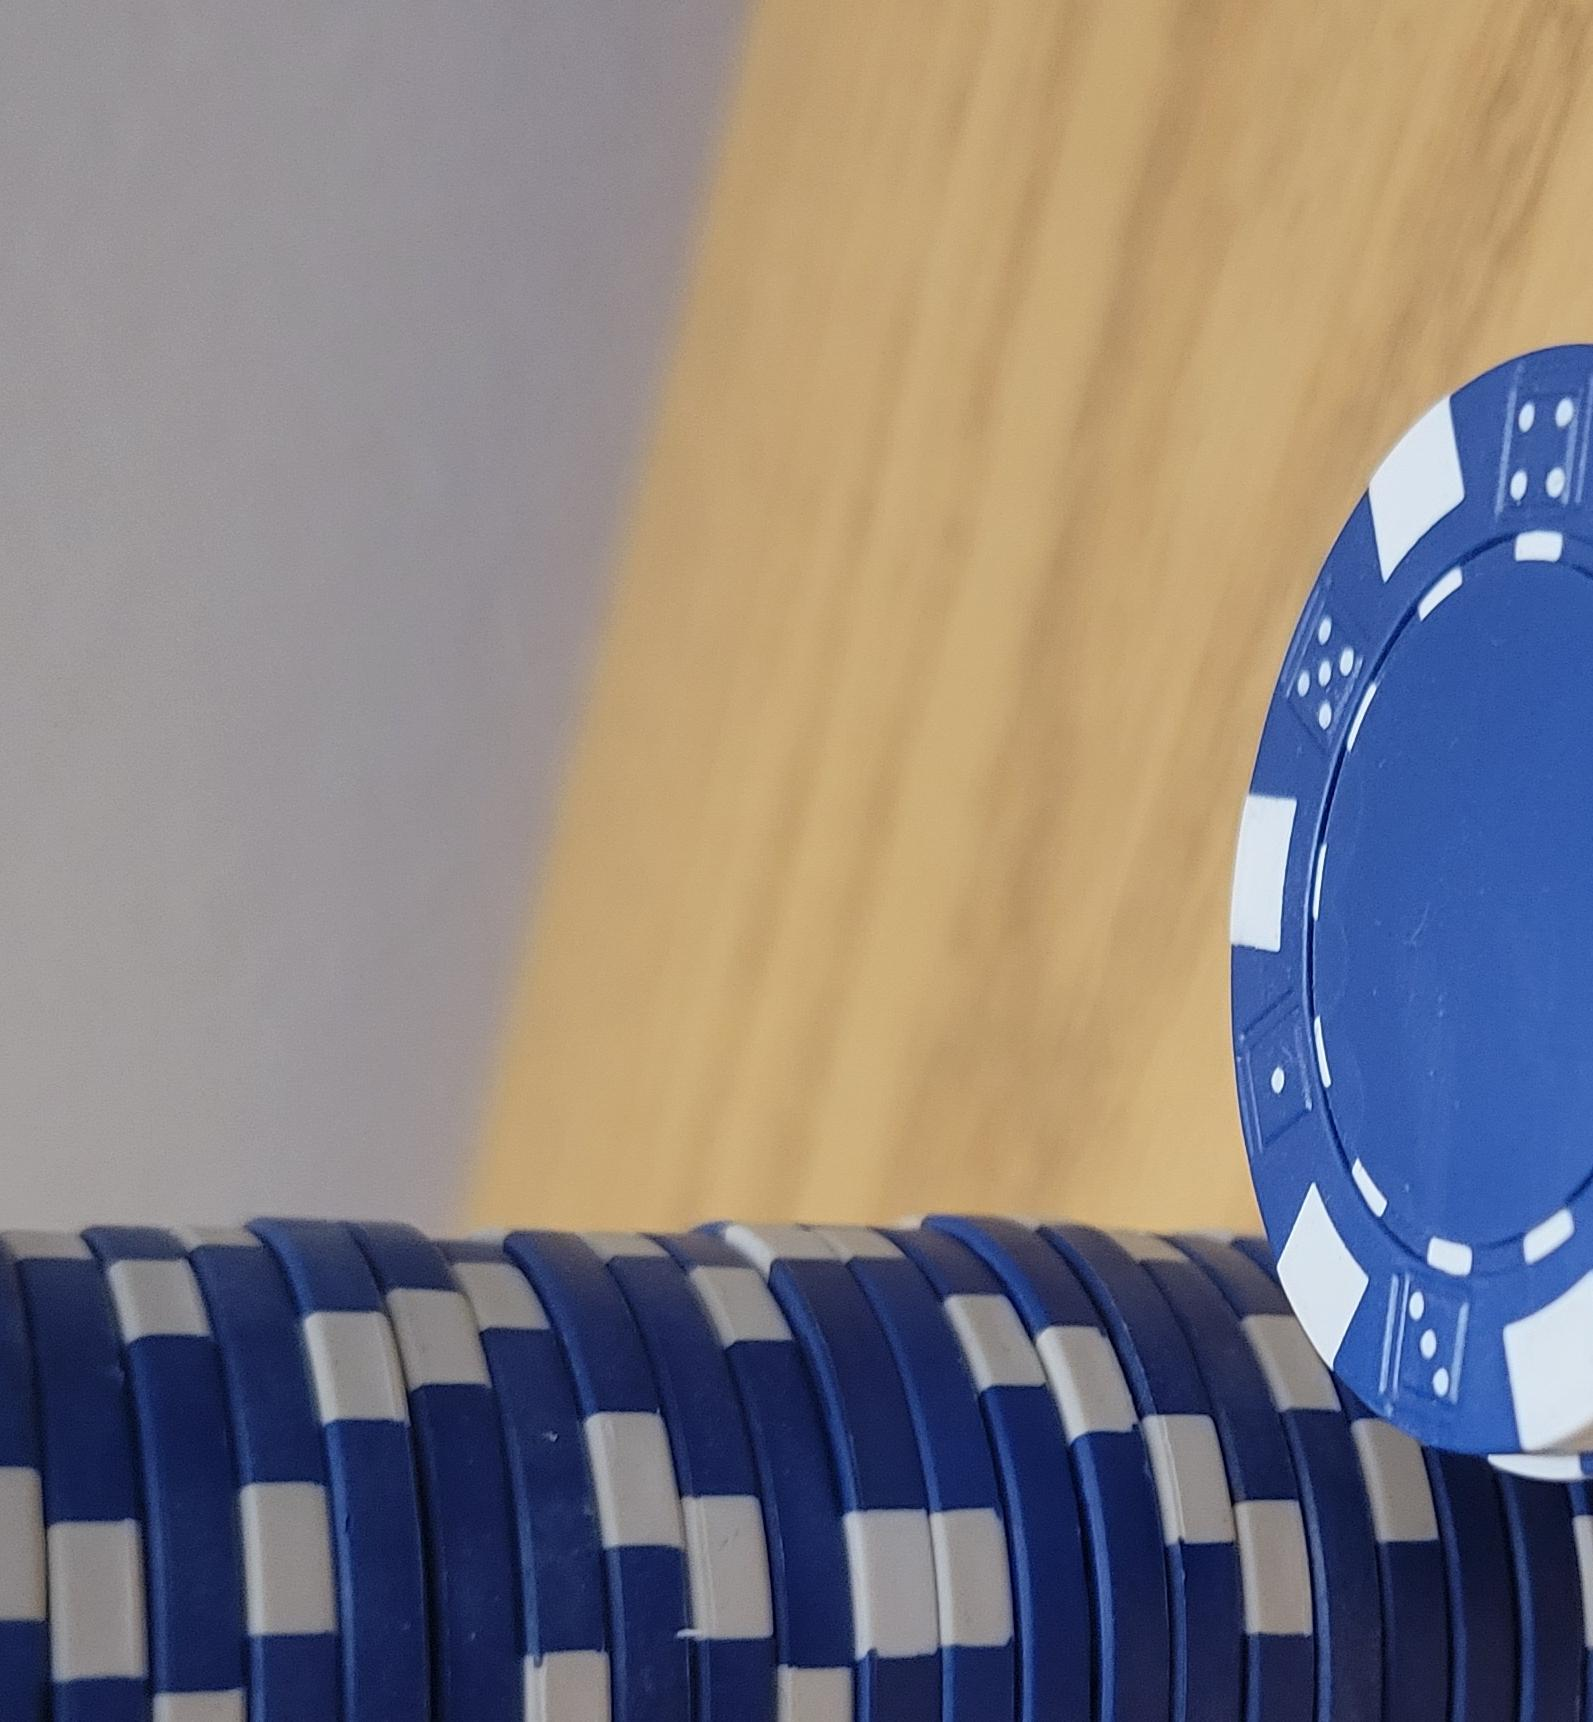Chip: (1, 76, 1029, 1722)
